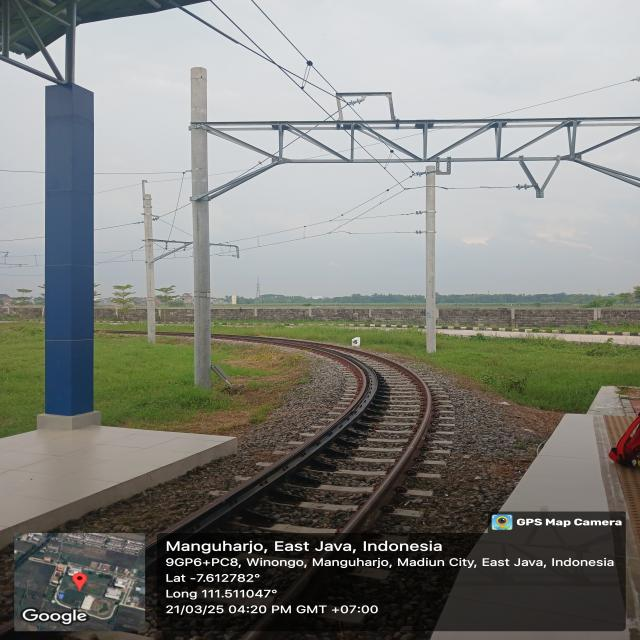rail-detection: (147, 335, 378, 561), (335, 349, 435, 540), (335, 351, 434, 535), (280, 564, 315, 605), (280, 570, 315, 604)
